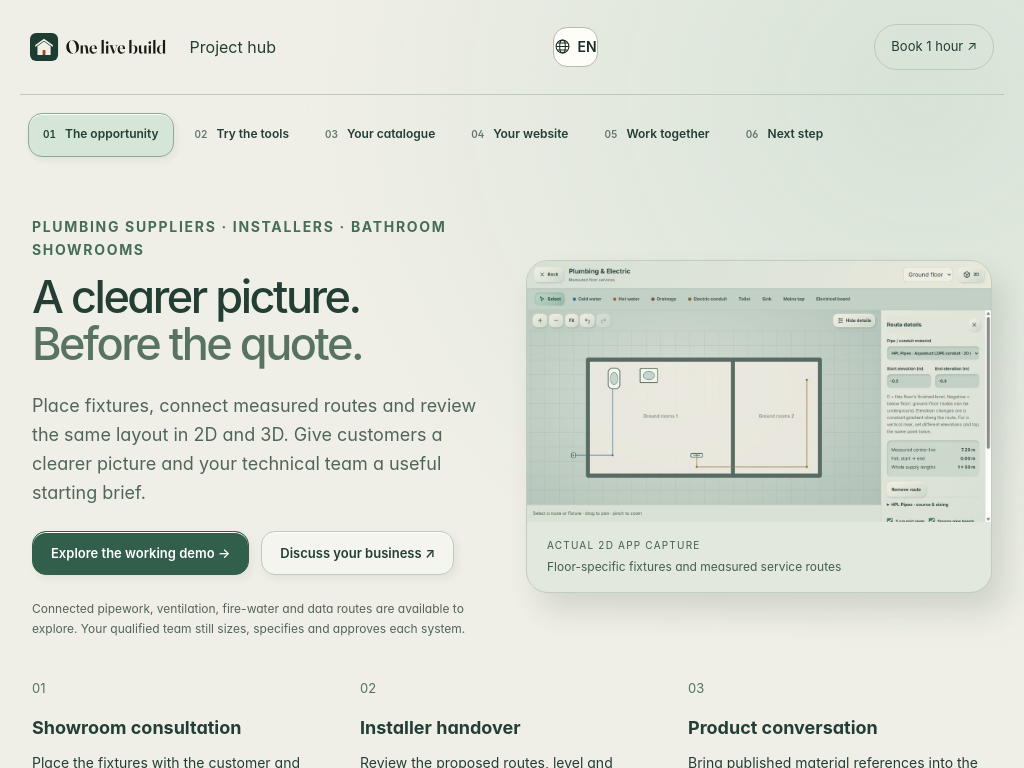
it: sales enablement journeys › links the supported services, foundation and guide entry points with their review limits
The width and height of the screenshot is (1024, 768).
Click the tab "04 Your website" at point(520, 134), box [456,112,583,156]
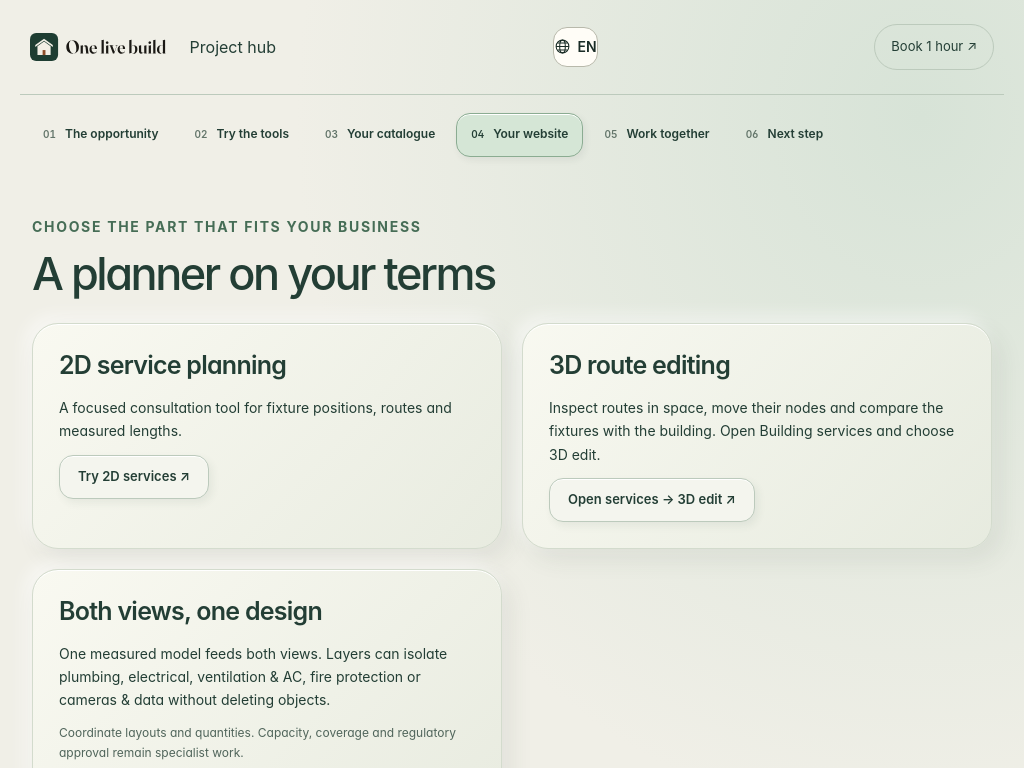
Expected: the text "3D route editing" is shown, [549,350,730,380]
Expected: the text "without deleting objects" is shown, [59,645,447,708]
Click the tab "05 Work together" at point(657, 134), box [589,112,725,156]
(page scrolled)
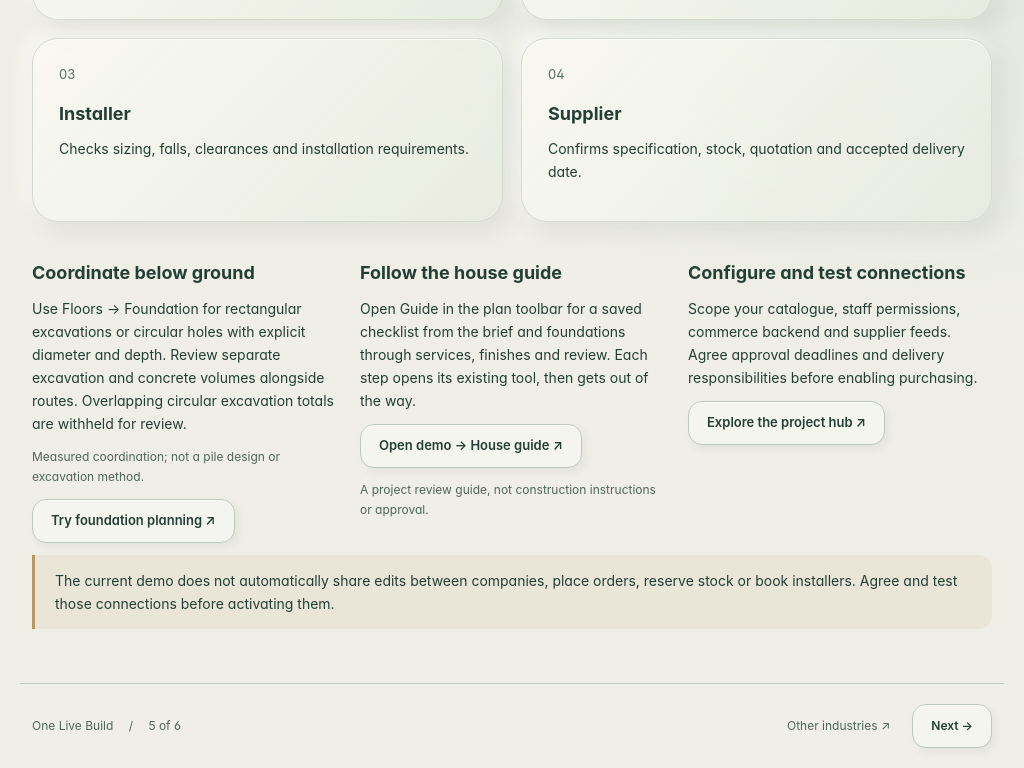
Expected: the text "diameter and depth" is shown, [32,300,334,432]
Expected: the text "totals are withheld for review" is shown, [32,300,334,432]
Expected: the text "not a pile design or excavation method" is shown, [32,449,280,484]
